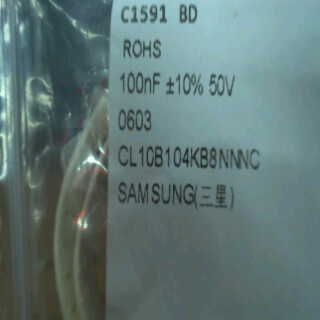100nF: (118, 66, 166, 97)
